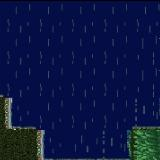Interaction: (0, 89, 17, 139), (51, 152, 138, 160), (18, 118, 52, 138), (30, 139, 51, 160), (125, 120, 138, 152), (138, 122, 160, 134)
Slow: (0, 0, 160, 93), (12, 94, 160, 125), (44, 124, 125, 153), (133, 129, 160, 160)
